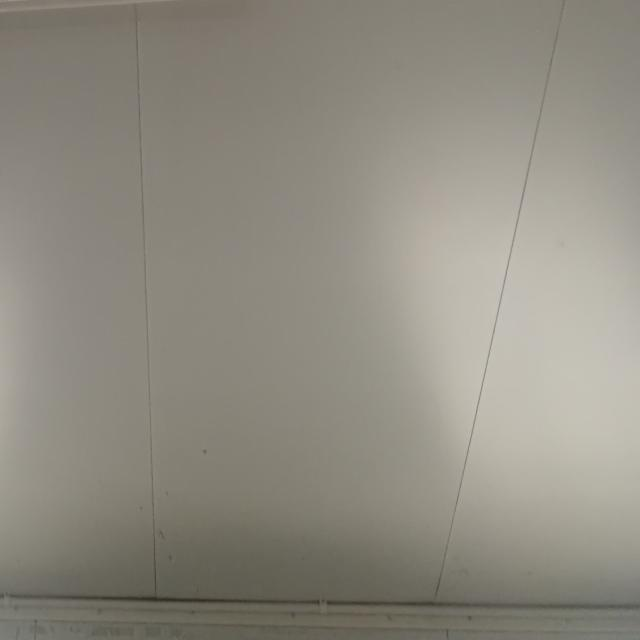fluorescent tube: (0, 0, 275, 85)
